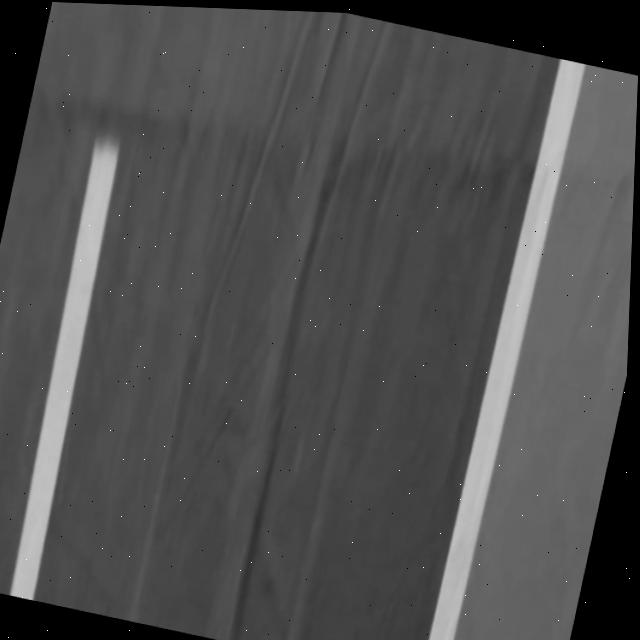center: (9, 137, 118, 600)
right: (428, 58, 584, 640)
